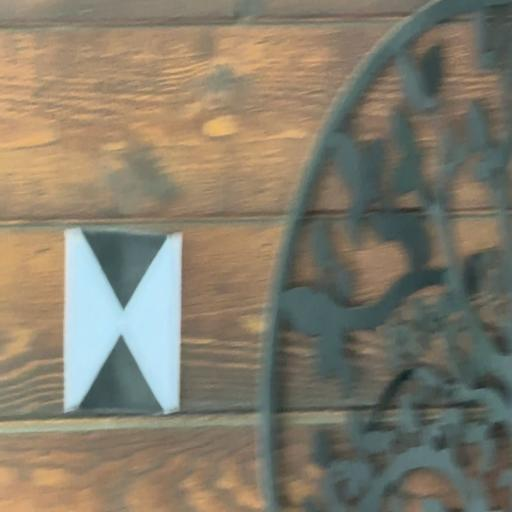target: (66, 230, 180, 414)
